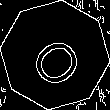O_NE: (22, 22, 88, 88)
